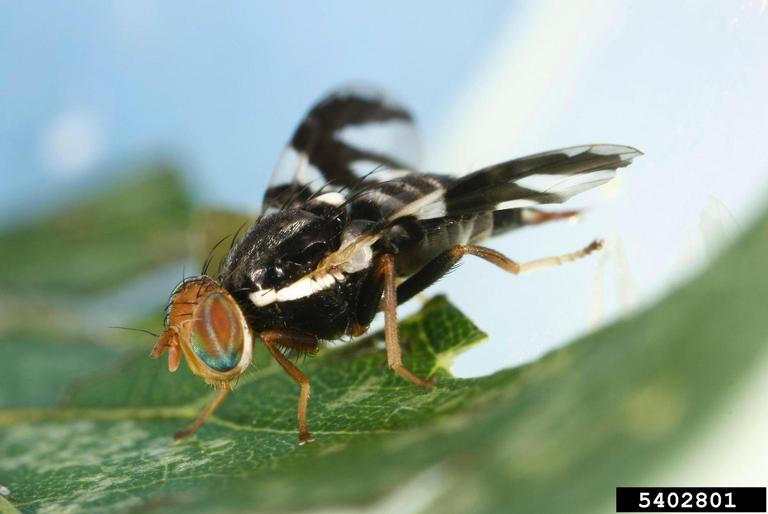Fruit fly: (148, 101, 649, 436)
